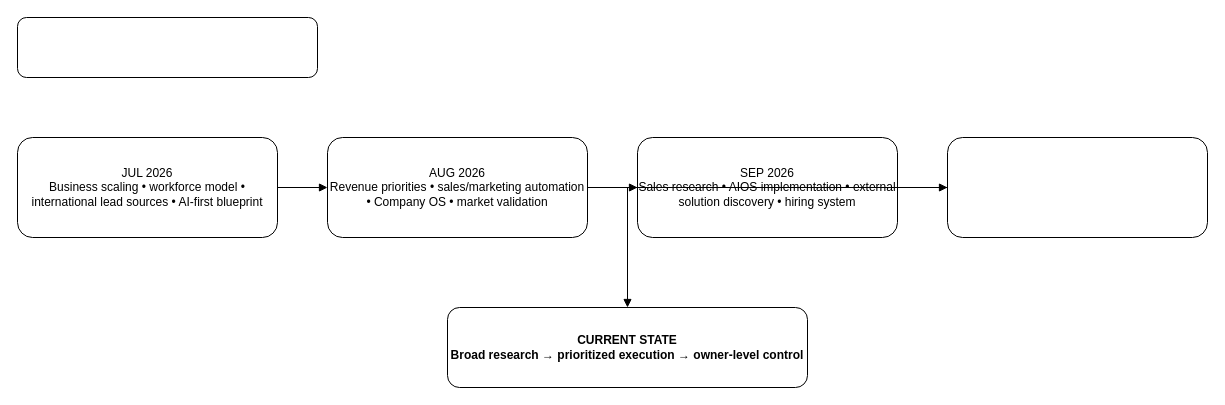
This 1225x405 diagram has some shape labels left out. Each missing label, with the box of its shape:
NIVY — HISTORY TIMELINE: (16, 16, 318, 78)
OCT 2026 Owner Control • international acquisition execution • BDE/sales hiring: (946, 136, 1208, 238)
